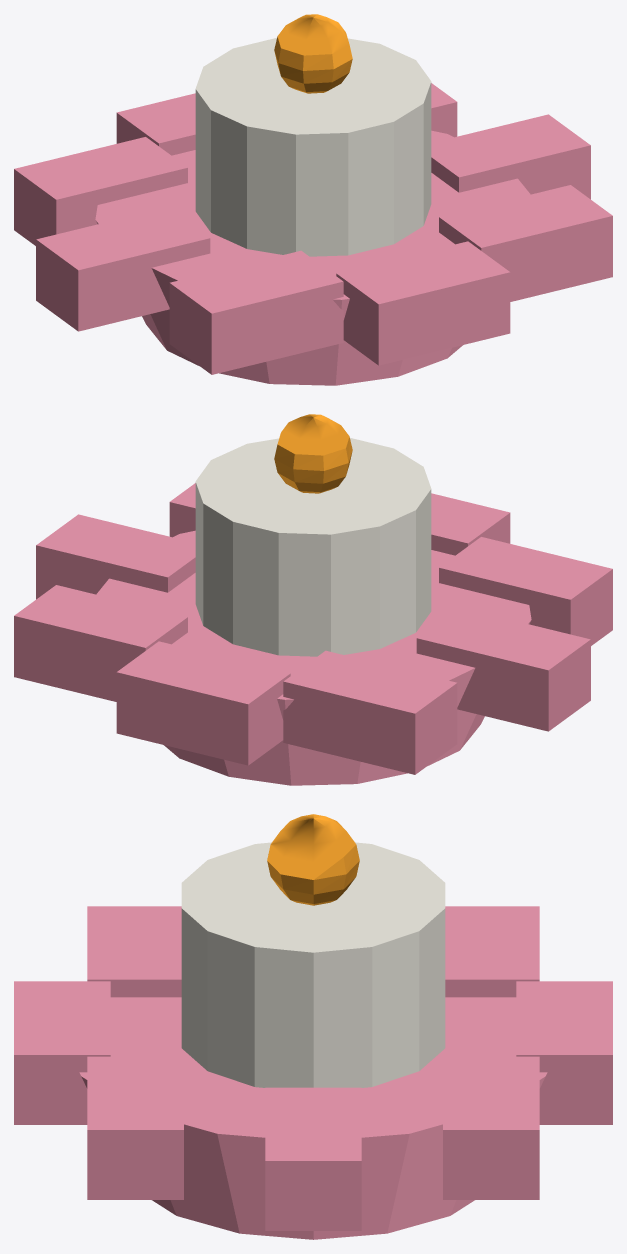
Rendered from nen_hoa_sen.obj.
The picture shows the model from 3 angles, top to bottom: view 1: azimuth 30°, elevation 25°; view 2: azimuth 150°, elevation 25°; view 3: azimuth 270°, elevation 25°; orthographic projection. The views are drawn at different scales.
Bounding box in the file's own units: 0.175 × 0.097 × 0.155.
